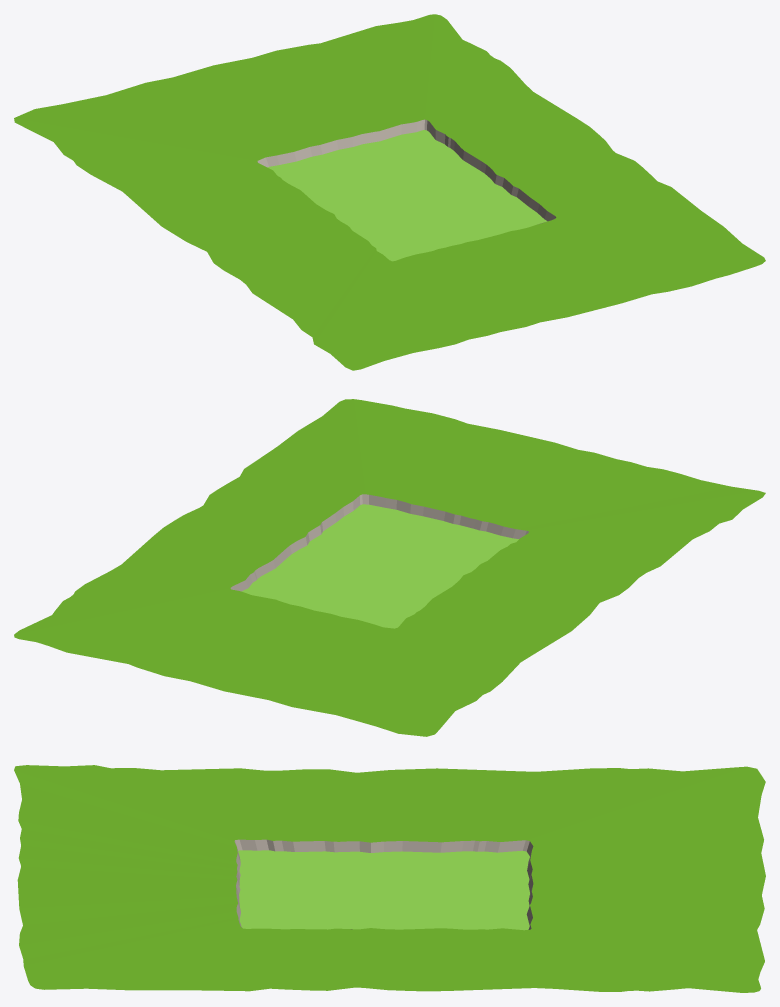
Rendered from Game_field.fbx.
3 renders of one model, top to bottom at view 1: azimuth 30°, elevation 25°; view 2: azimuth 150°, elevation 25°; view 3: azimuth 270°, elevation 25°, orthographic. The views are drawn at different scales.
Parts seen in each view (by area): view 1: Plane; view 2: Plane; view 3: Plane.
Part boxes in pixels (x1=…): Plane: x1=14, y1=14, x2=765, y2=370; Plane: x1=14, y1=399, x2=765, y2=736; Plane: x1=14, y1=765, x2=765, y2=992.
Size of the model in its own units: 705 by 13.7 by 984.
